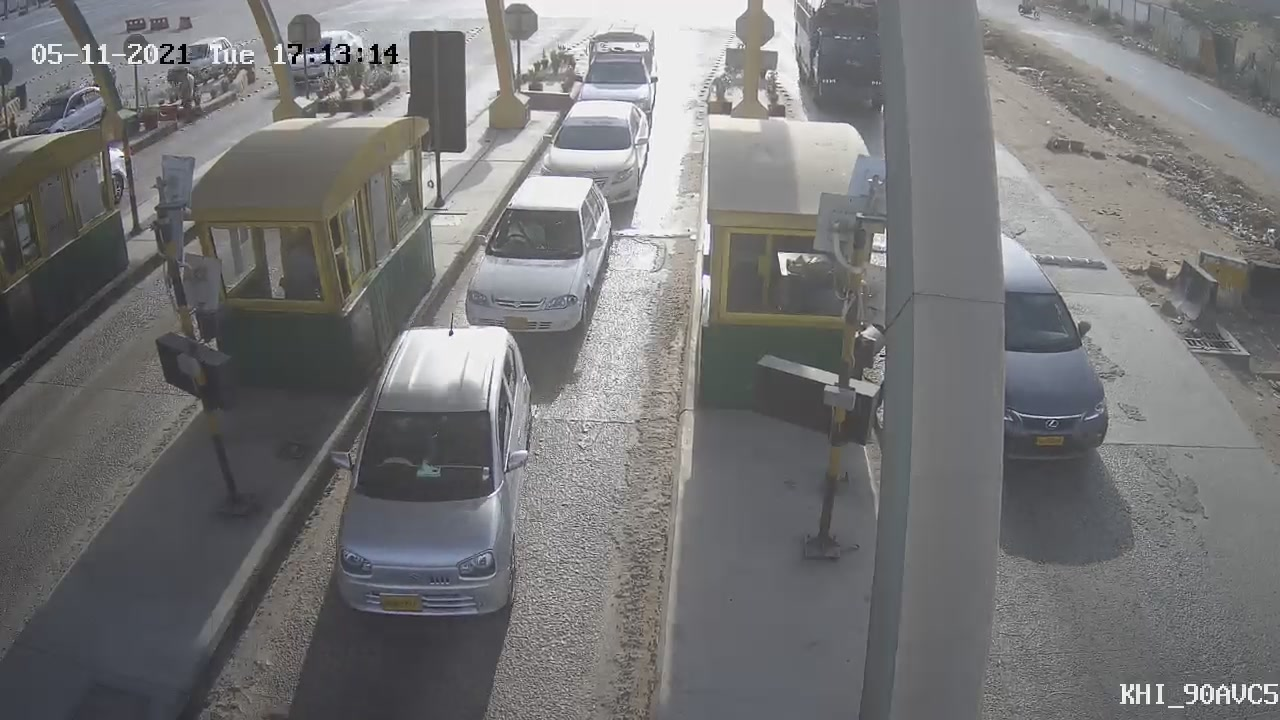F1: (450, 166, 625, 353), (529, 86, 660, 217)
